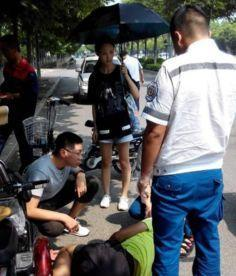Fall-Detected: (59, 201, 197, 274)
